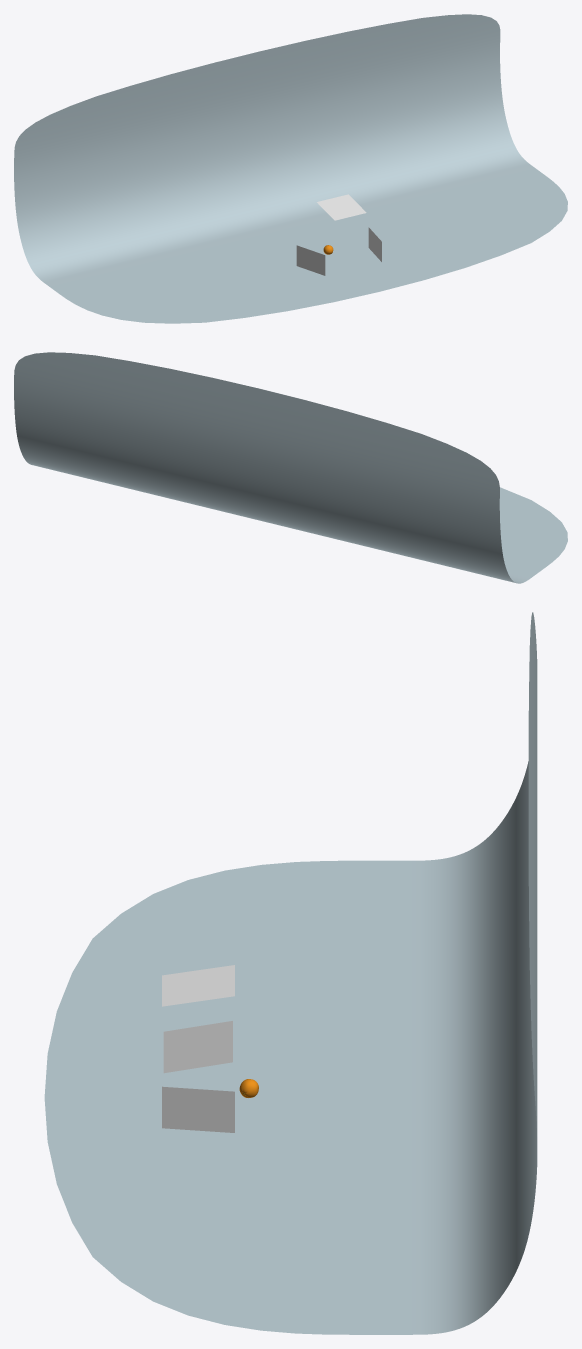
The model's file is Fruit - Orange.fbx.
3 views of the same model, one above another, from view 1: azimuth 30°, elevation 25°; view 2: azimuth 150°, elevation 25°; view 3: azimuth 270°, elevation 25° (orthographic). The views are drawn at different scales.
Parts seen in each view (by area): view 1: Background, Light_03, Light_01; view 2: Background; view 3: Background, Light_02, Light_01, Light_03.
Part boxes in pixels (<box>): Background: <box>14,14,567,323</box>; Light_03: <box>317,194,366,220</box>; Light_01: <box>296,245,325,275</box>; Background: <box>14,352,567,583</box>; Background: <box>44,612,537,1334</box>; Light_02: <box>162,1086,234,1132</box>; Light_01: <box>163,1021,232,1073</box>; Light_03: <box>162,965,234,1006</box>.
Size of the model in its own units: 4551 by 1469 by 1998.
